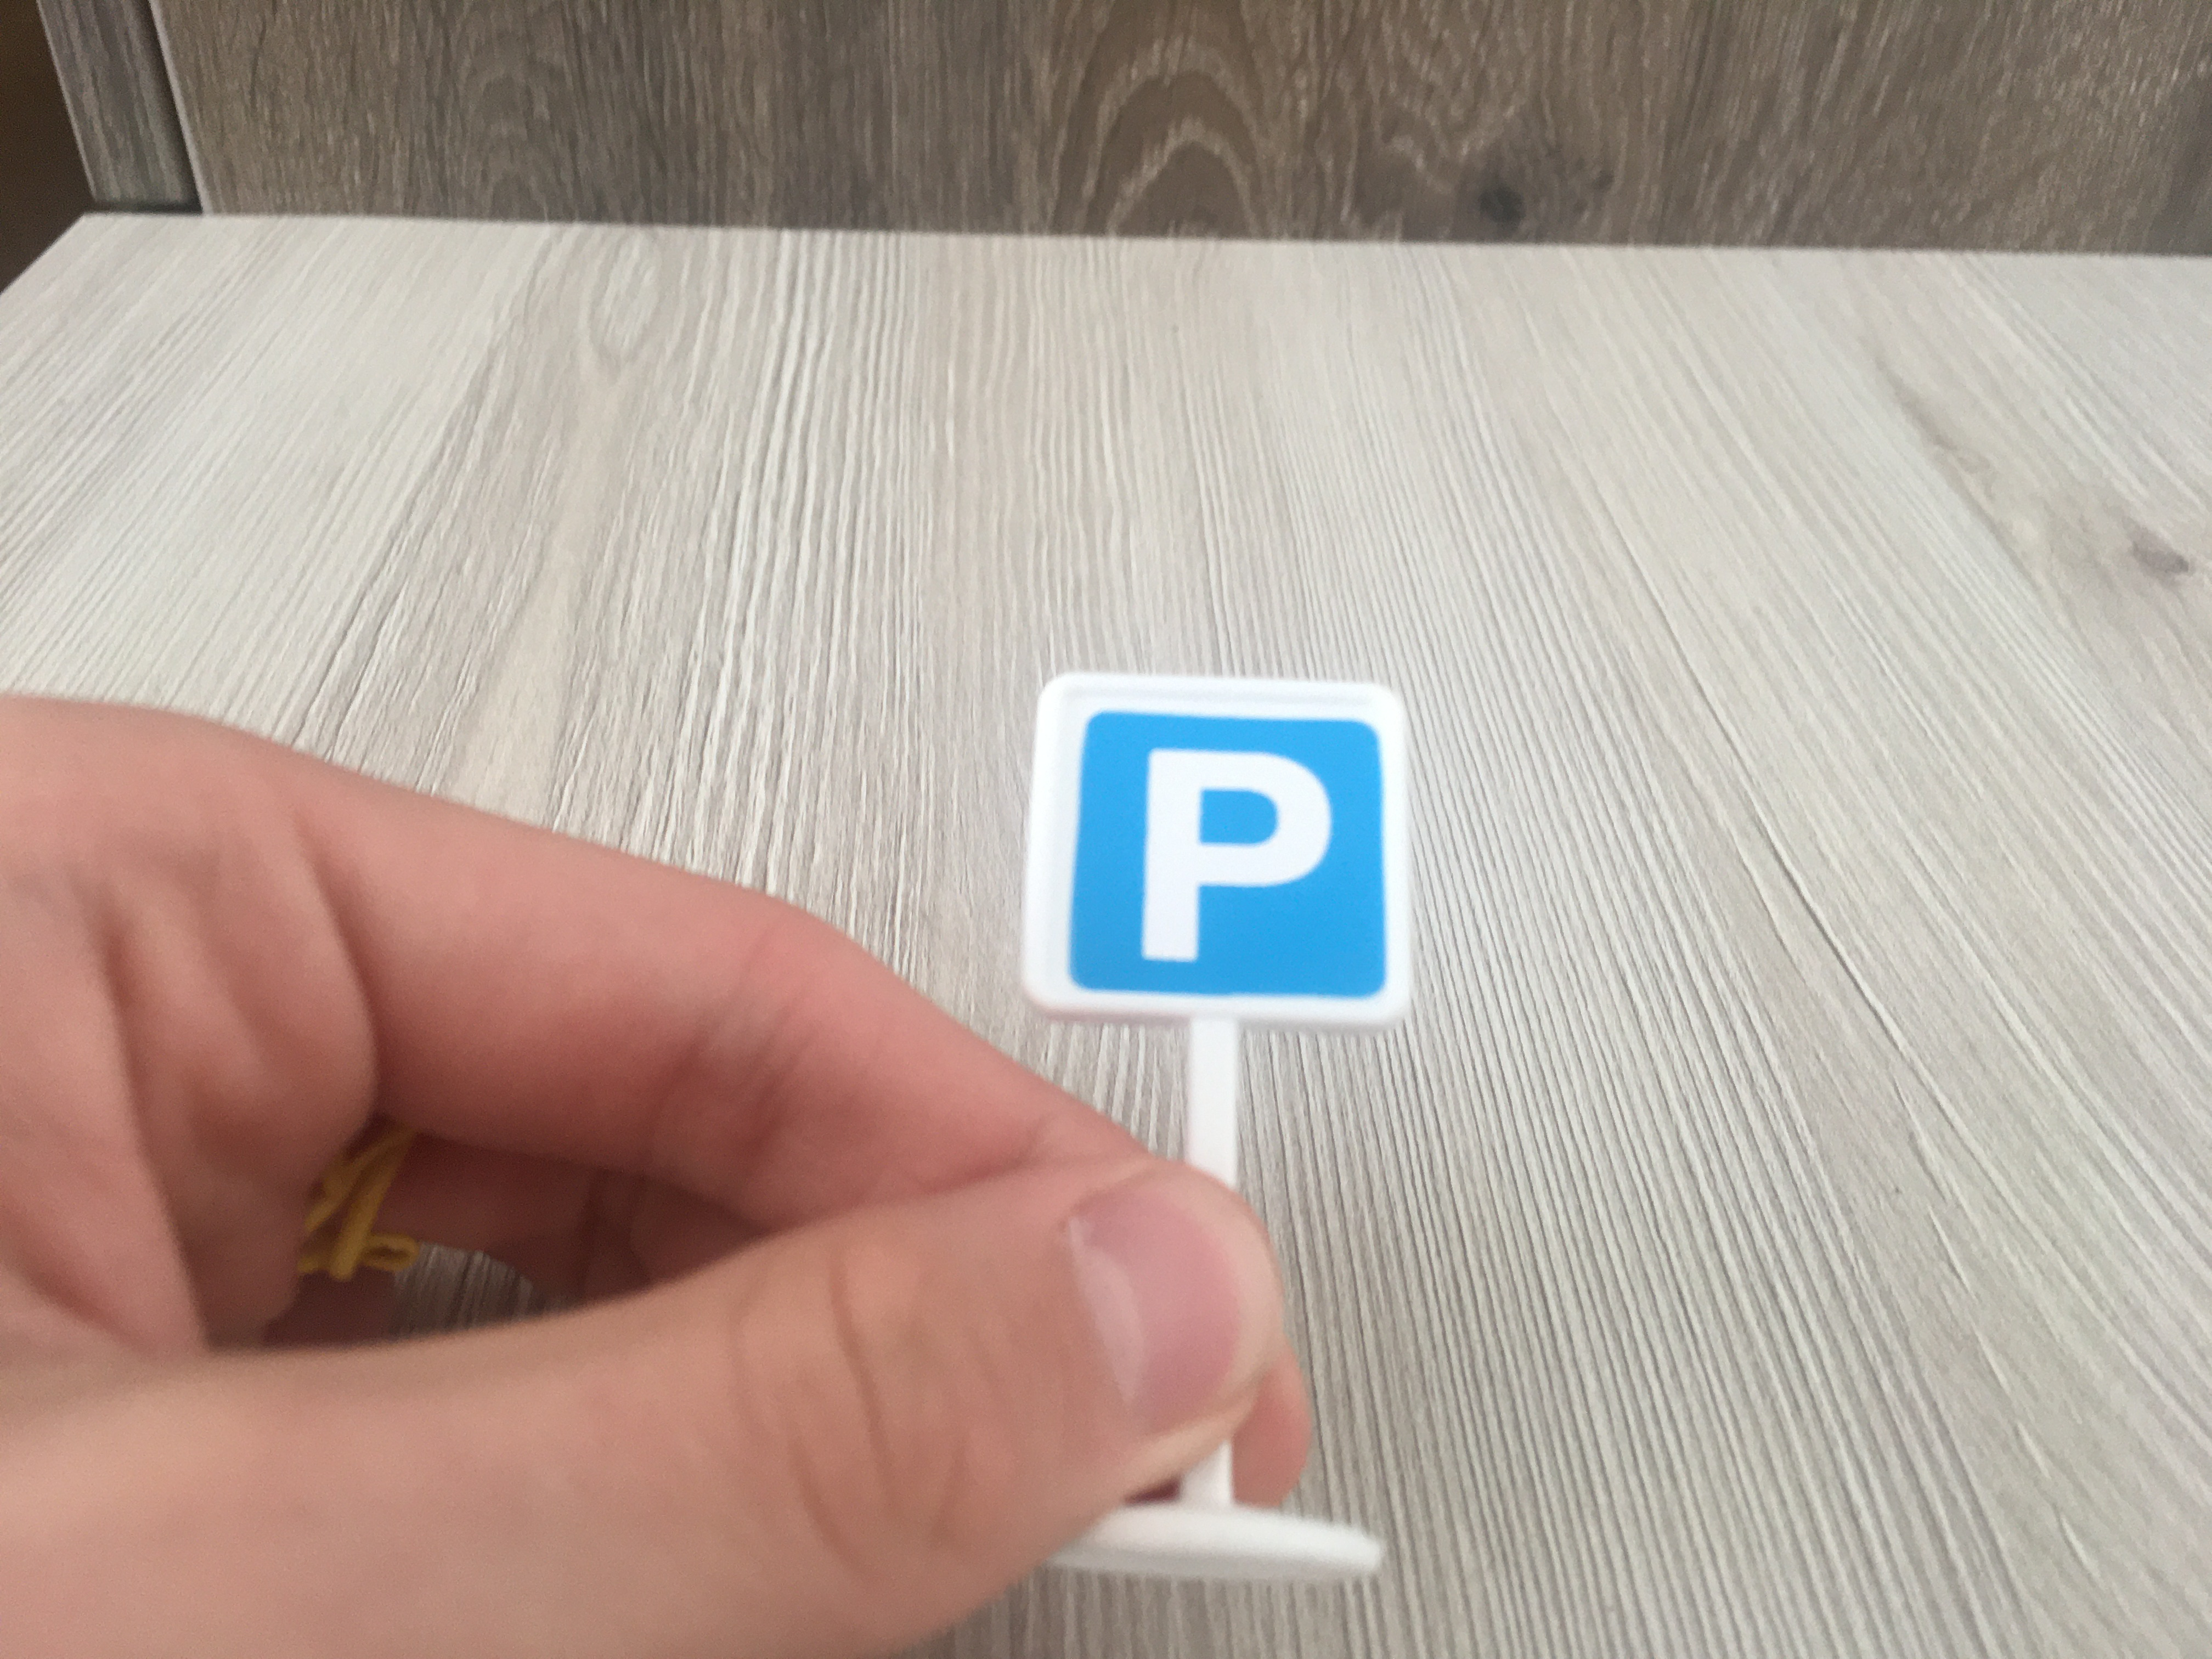parking: (1028, 680, 1409, 1037)
